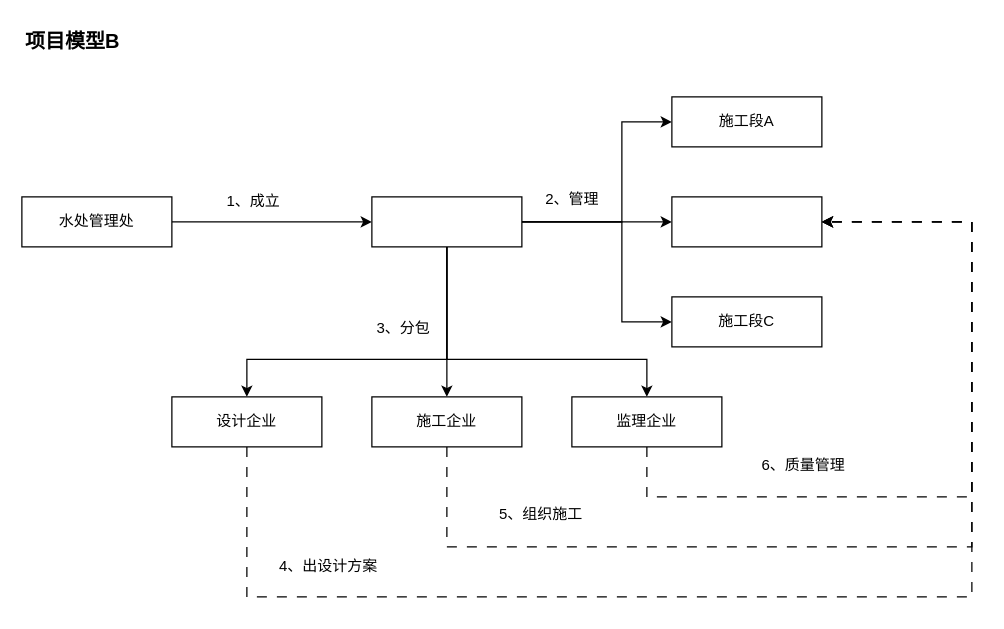
The diagram is 1004 pixels wide and 629 high, and some of its shapes have lost their labels. Each missing label, with the centre of its shape:
"施工段B" goes at [746,221].
"项目部" goes at [446,221].
